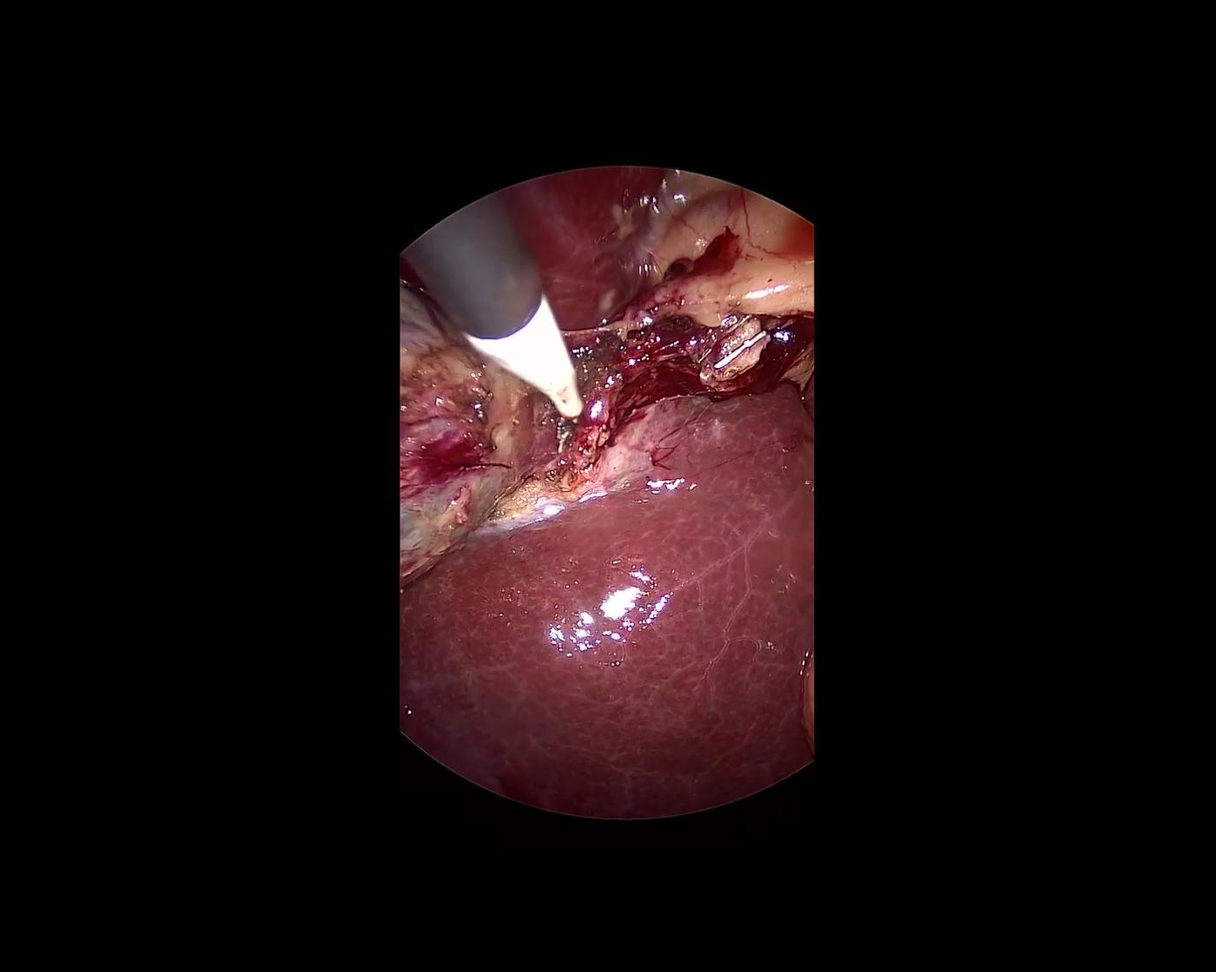Cautery: (397, 192, 598, 461)
Gallbladder: (402, 283, 556, 584)
Liver: (399, 383, 816, 818), (500, 161, 680, 335)
